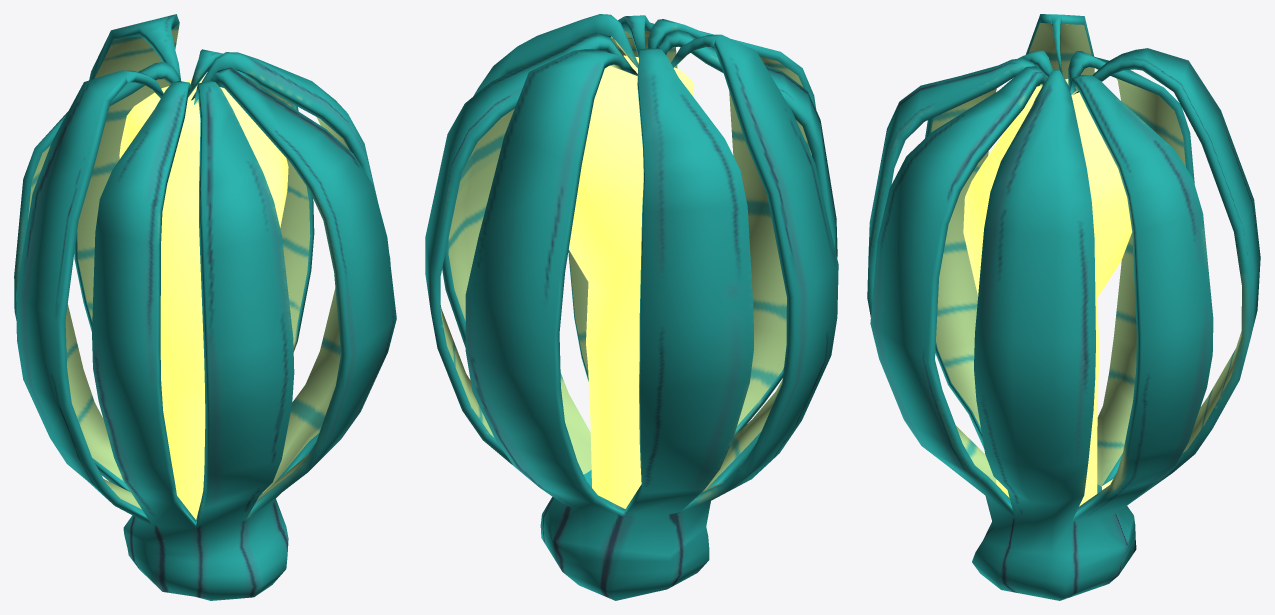
The model's file is Adult Tree.fbx.
The picture shows the model from 3 angles, left to right: view 1: azimuth 30°, elevation 25°; view 2: azimuth 150°, elevation 25°; view 3: azimuth 270°, elevation 25°; orthographic projection. The views are drawn at different scales.
Visible parts, largest first — view 1: adult tree, Adult core; view 2: adult tree, Adult core; view 3: adult tree, Adult core.
Part boxes in pixels (x1,y1,x2,y2): adult tree: (14, 14, 396, 600); Adult core: (119, 76, 288, 519); adult tree: (425, 14, 838, 600); Adult core: (569, 55, 692, 508); adult tree: (867, 14, 1260, 600); Adult core: (963, 79, 1132, 506).
Size of the model in its own units: 204 by 306 by 207.
